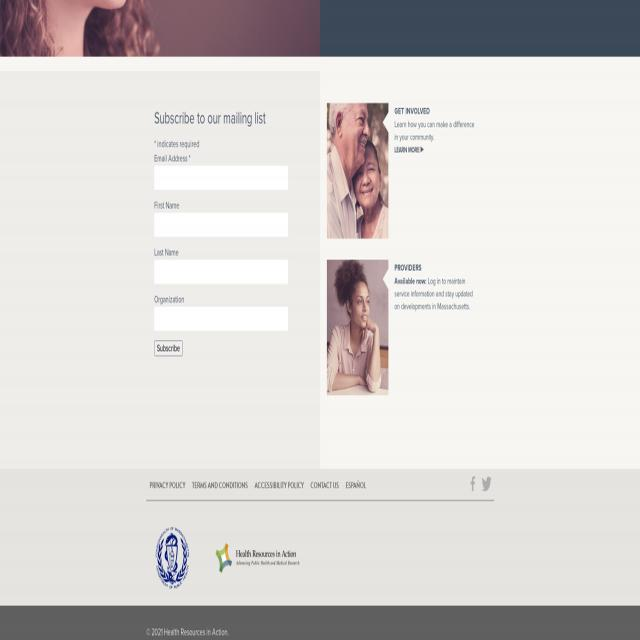button: (327, 102, 388, 238), (327, 259, 388, 395), (208, 528, 308, 588), (155, 528, 189, 588), (189, 473, 251, 498), (251, 473, 307, 498), (146, 473, 188, 498), (307, 473, 342, 498), (342, 473, 370, 498), (154, 340, 182, 356), (480, 473, 496, 497), (466, 474, 479, 497)
field: (154, 165, 288, 190), (154, 212, 288, 237), (154, 259, 288, 284), (154, 306, 288, 331)
